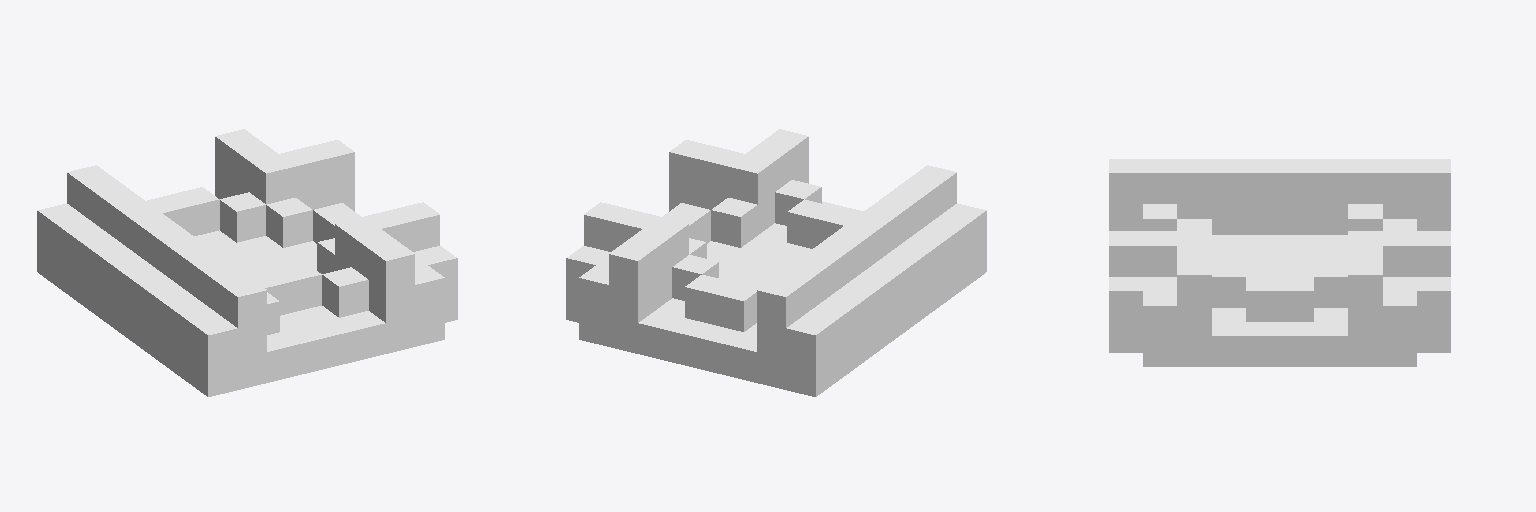
File: ConveyorStraightRight.obj
The picture shows the model from 3 angles: view 1: azimuth 30°, elevation 25°; view 2: azimuth 150°, elevation 25°; view 3: azimuth 270°, elevation 25°; orthographic projection.
Parts seen in each view (by area): view 1: object 1; view 2: object 1; view 3: object 1.
Boxes of the visible parts, box(x1,y1,x2,y2) form: object 1: box(37, 129, 457, 396); object 1: box(566, 129, 986, 396); object 1: box(1109, 159, 1450, 366).
Size of the model in its own units: 0.9 by 0.3 by 1.